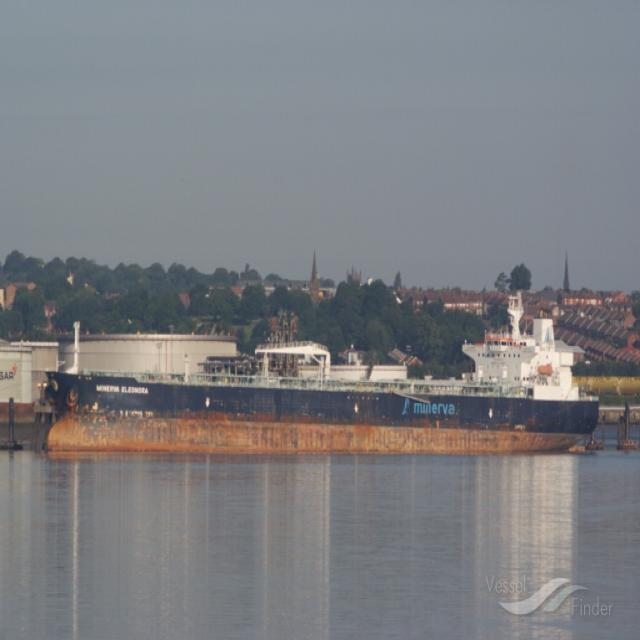Oil Tanker: (44, 293, 601, 456)
